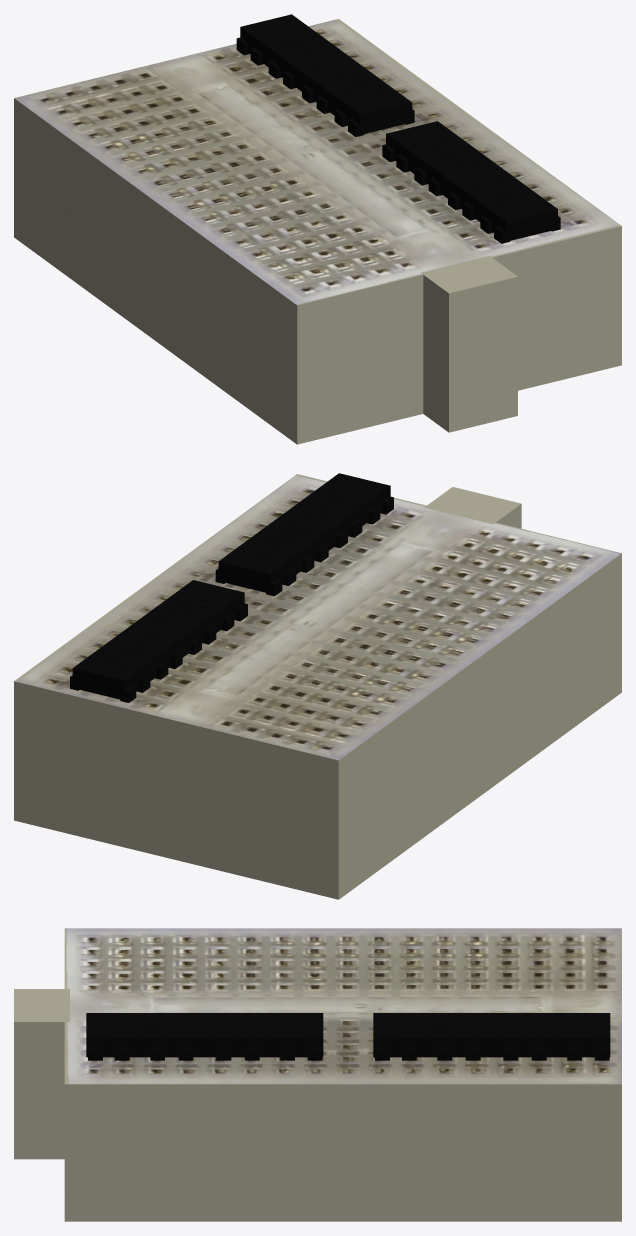
File: LeguLeteron-74HC595_Brade_Board.fbx
3 views of the same model, one above another, from view 1: azimuth 30°, elevation 25°; view 2: azimuth 150°, elevation 25°; view 3: azimuth 270°, elevation 25° (orthographic).
Parts seen in each view (by area): view 1: node_id6131 (×2), node_id6134, node_id6154, node_id6140, node_id6160; view 2: node_id6131 (×2), node_id6134, node_id6154, node_id6140, node_id6160; view 3: node_id6131 (×2), node_id6134, node_id6154, node_id6140, node_id6160.
Boxes of the visible parts, box(x1,y1,x2,y2) form: node_id6131 (×2): box(14, 19, 621, 444); node_id6134: box(240, 14, 412, 134); node_id6154: box(386, 121, 557, 241); node_id6140: box(267, 25, 384, 98); node_id6160: box(413, 132, 530, 205); node_id6131 (×2): box(14, 474, 621, 899); node_id6134: box(72, 580, 244, 700); node_id6154: box(218, 473, 390, 593); node_id6140: box(96, 594, 212, 666); node_id6160: box(242, 487, 358, 559); node_id6131 (×2): box(14, 928, 621, 1221); node_id6134: box(373, 1013, 610, 1057); node_id6154: box(86, 1013, 323, 1057); node_id6140: box(405, 1018, 586, 1032); node_id6160: box(118, 1018, 299, 1032).
Size of the model in its own units: 0.4124 by 0.196 by 0.6793.
12 materials, 12 textured.
